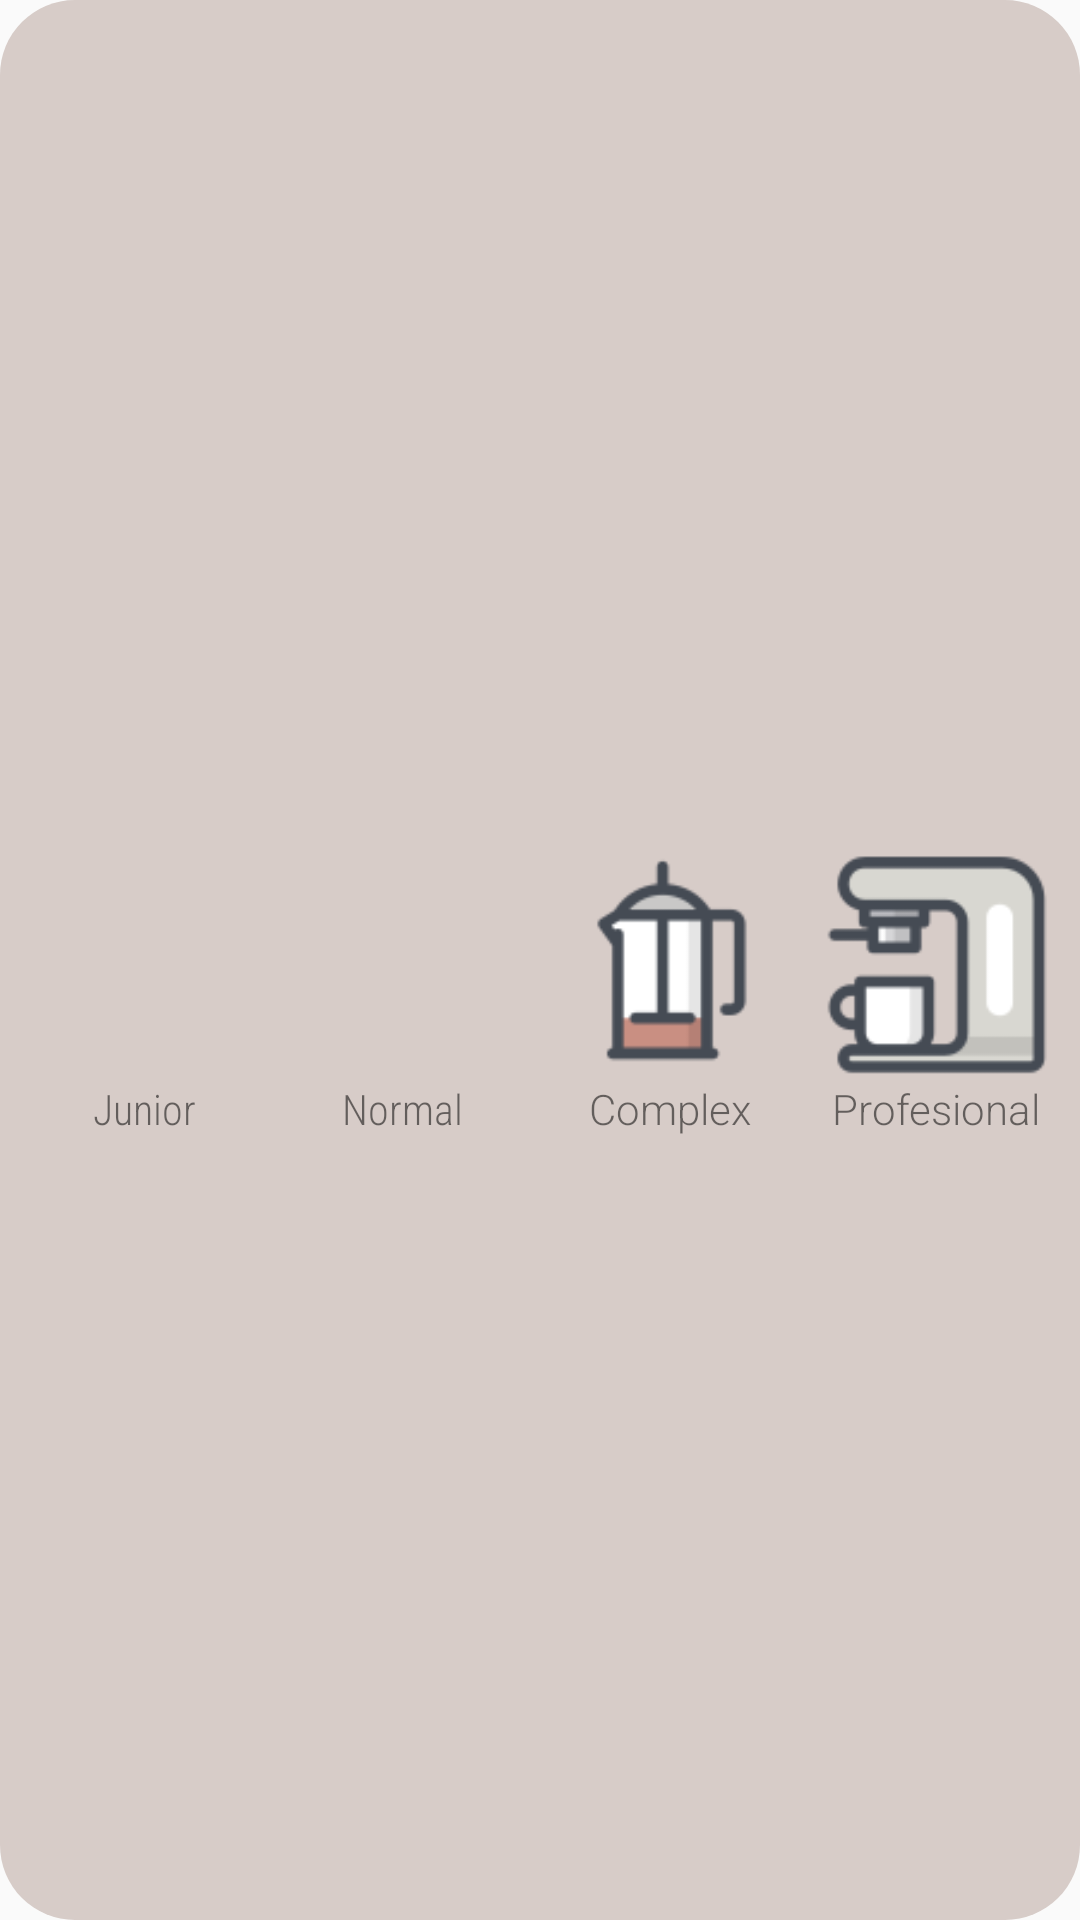

Where to tap for icons on this 1080w x 1920h app screen, as point (x, y):
coffe ma: point (937, 965), point (672, 961)
